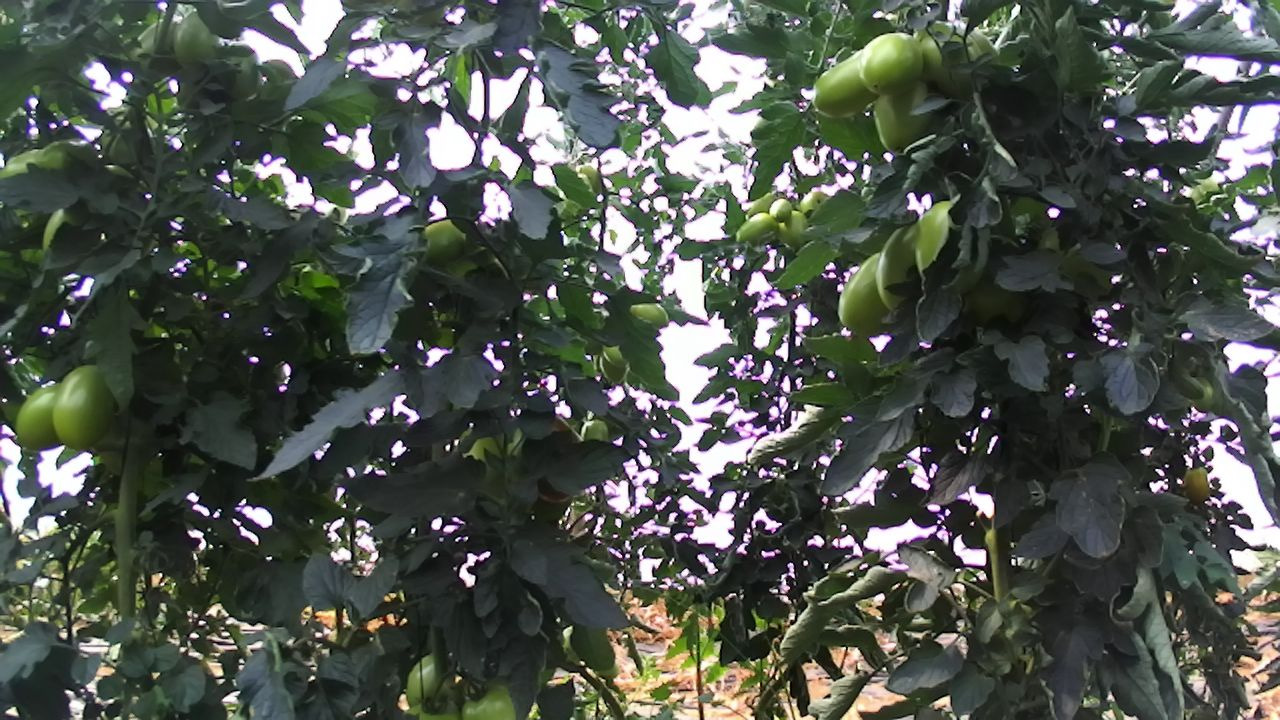tomato: (49, 360, 119, 456), (867, 68, 939, 158), (835, 245, 900, 340), (853, 28, 926, 98), (808, 42, 874, 119), (10, 375, 64, 457), (730, 208, 781, 248), (772, 208, 816, 247), (1182, 465, 1212, 507), (767, 195, 795, 224)
